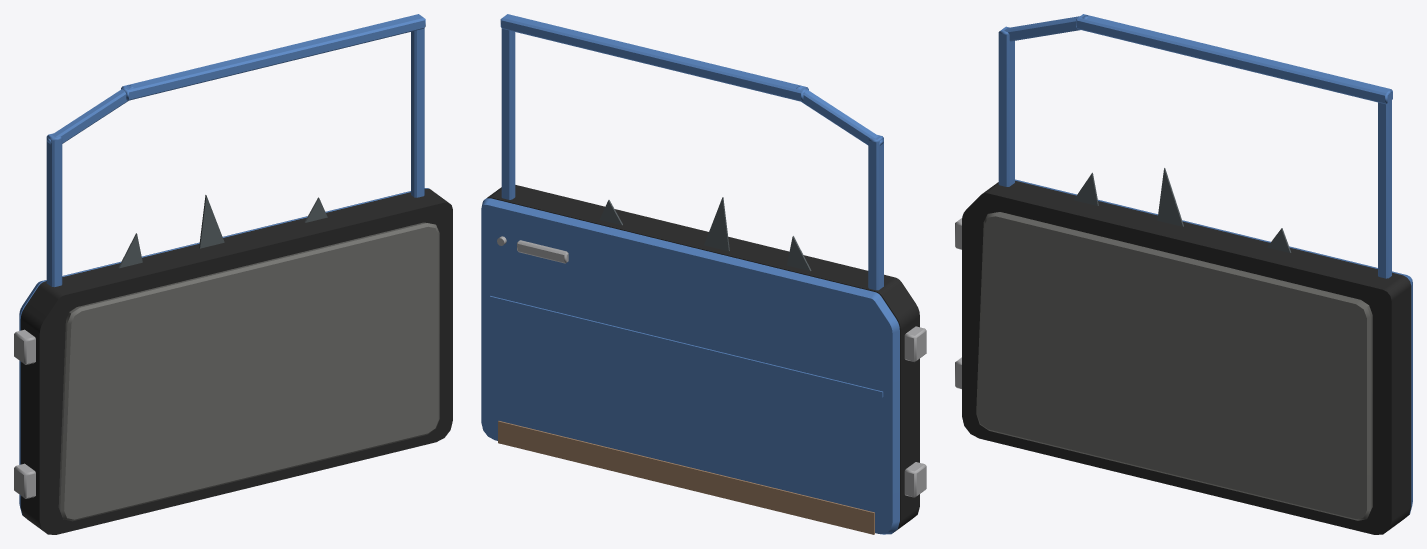
File: car_door.glb
3 renders of one model, left to right at view 1: azimuth 30°, elevation 25°; view 2: azimuth 150°, elevation 25°; view 3: azimuth 330°, elevation 25°, orthographic. The views are drawn at different scales.
Parts seen in each view (by area): view 1: body; view 2: body; view 3: body.
Boxes of the visible parts, x1,y1,x2,y2 form: body: (14,14,452,534); body: (481,14,926,534); body: (955,14,1412,534).
Size of the model in its own units: 1.03 by 0.9647 by 0.1355.
